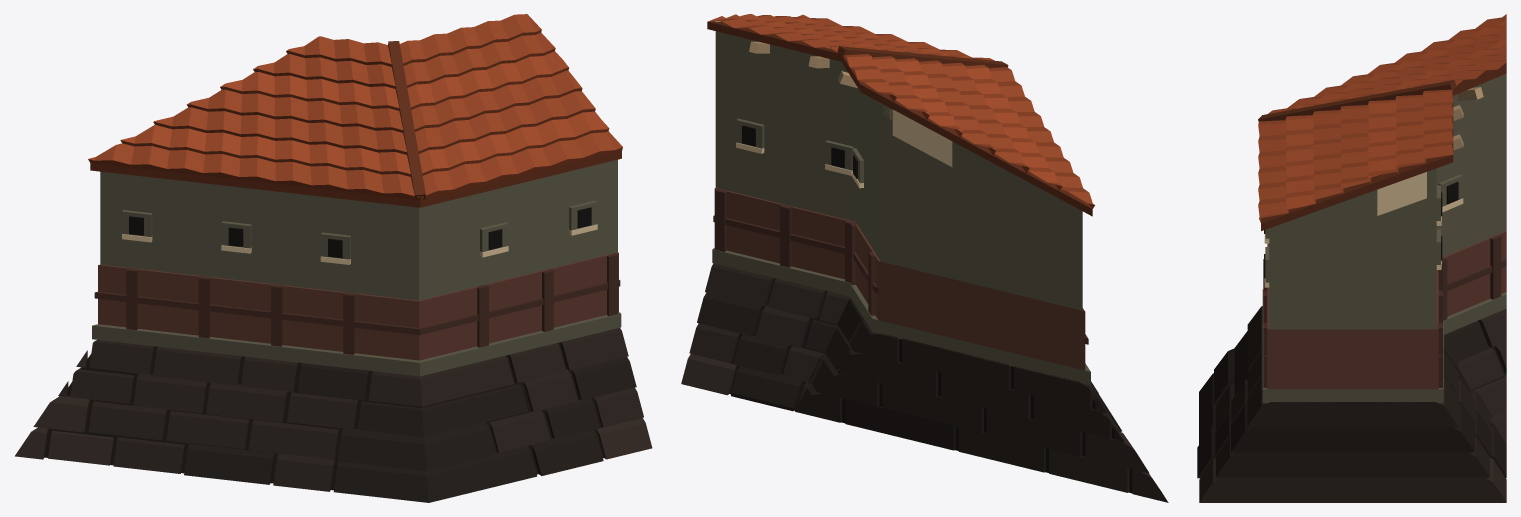
The model's file is VerJoint12.glb.
3 views of the same model, side by side, from view 1: azimuth 30°, elevation 25°; view 2: azimuth 150°, elevation 25°; view 3: azimuth 270°, elevation 25° (orthographic).
Parts seen in each view (by area): view 1: VerJoint12_mortar; view 2: VerJoint12_mortar; view 3: VerJoint12_mortar.
Boxes of the visible parts, <box> form: VerJoint12_mortar: <box>15,14,652,502</box>; VerJoint12_mortar: <box>681,14,1168,502</box>; VerJoint12_mortar: <box>1197,14,1506,502</box>.
Bounding box in the file's own units: 8.2 × 5.61 × 4.44.
